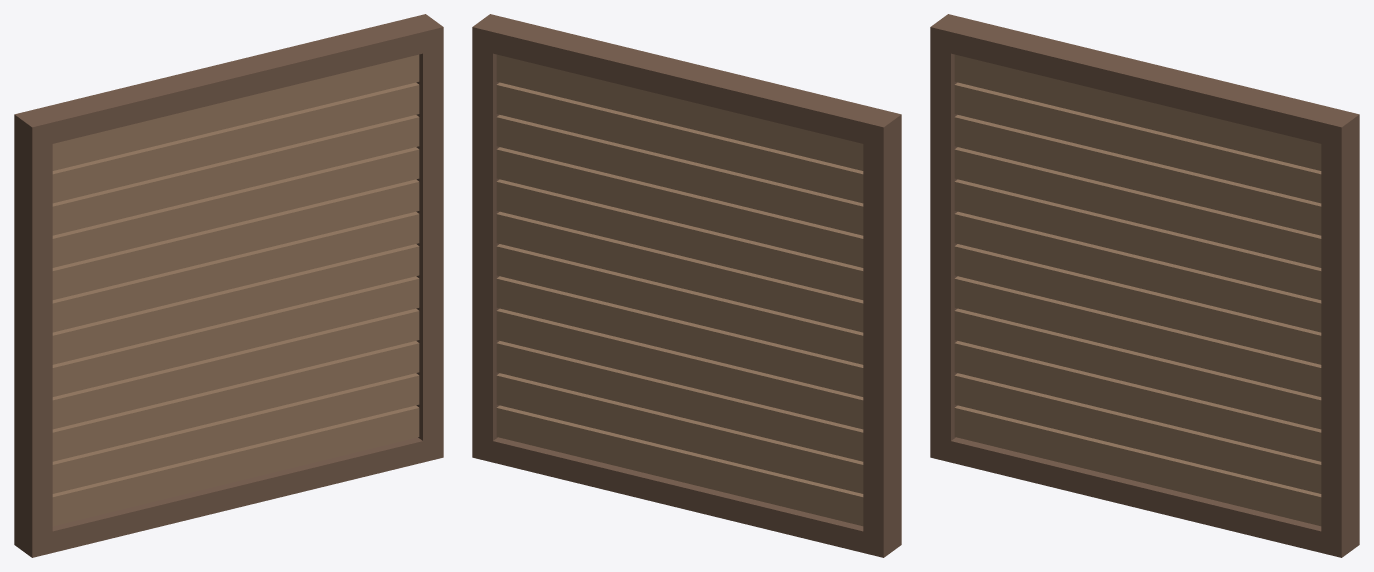
File: haunted_wall_woodplanks.glb
The picture shows the model from 3 angles, left to right: view 1: azimuth 30°, elevation 25°; view 2: azimuth 150°, elevation 25°; view 3: azimuth 330°, elevation 25°; orthographic projection.
Visible parts, largest first — view 1: Haunted_Wall_WoodPlanks; view 2: Haunted_Wall_WoodPlanks; view 3: Haunted_Wall_WoodPlanks.
Part boxes in pixels (box(x1,y1,x2,y2)): Haunted_Wall_WoodPlanks: box(14, 14, 443, 557); Haunted_Wall_WoodPlanks: box(472, 14, 901, 557); Haunted_Wall_WoodPlanks: box(930, 14, 1359, 557).
Bounding box in the file's own units: 4 × 4 × 0.3.
